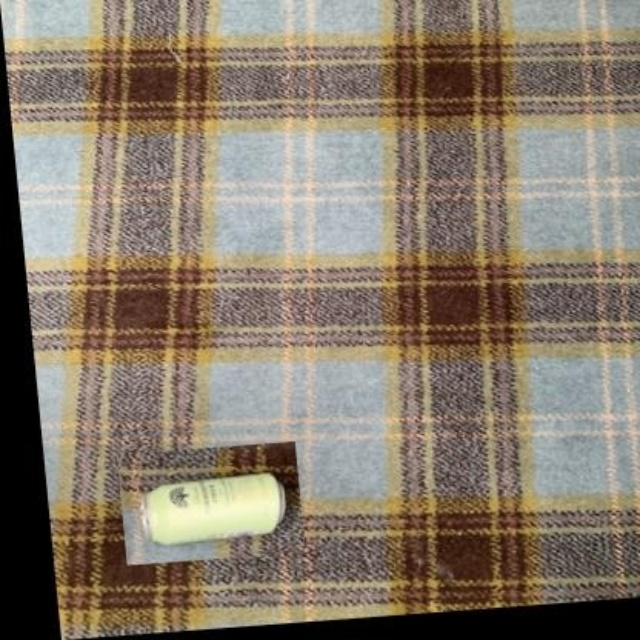trash: (145, 474, 283, 543)
